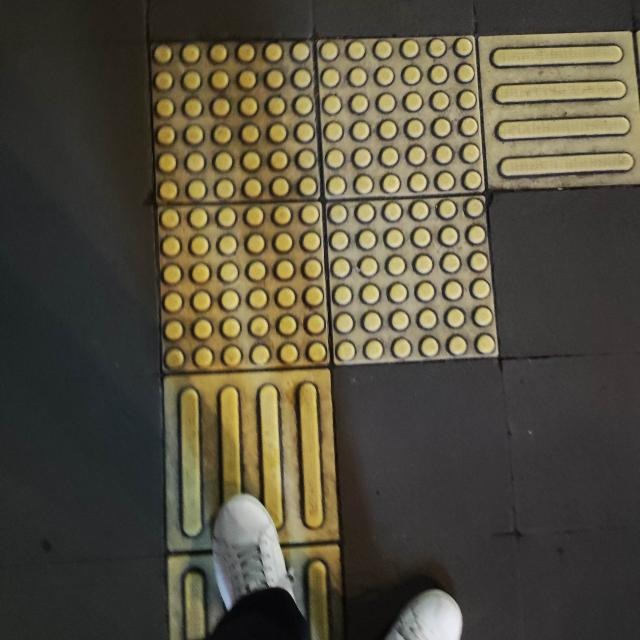kanan: (72, 0, 640, 515)
